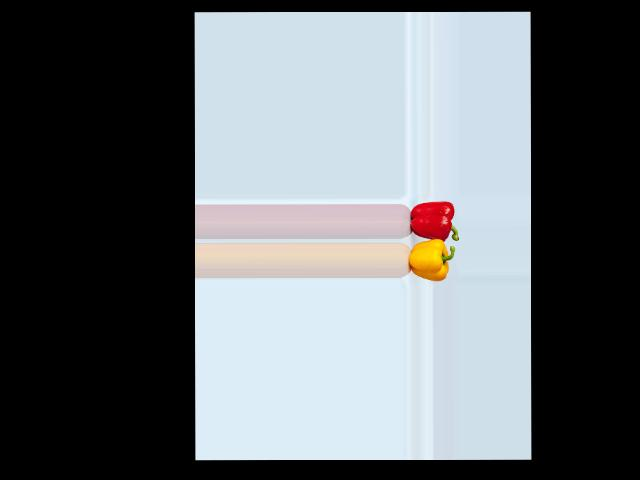bell_pepper: (405, 197, 457, 242)
